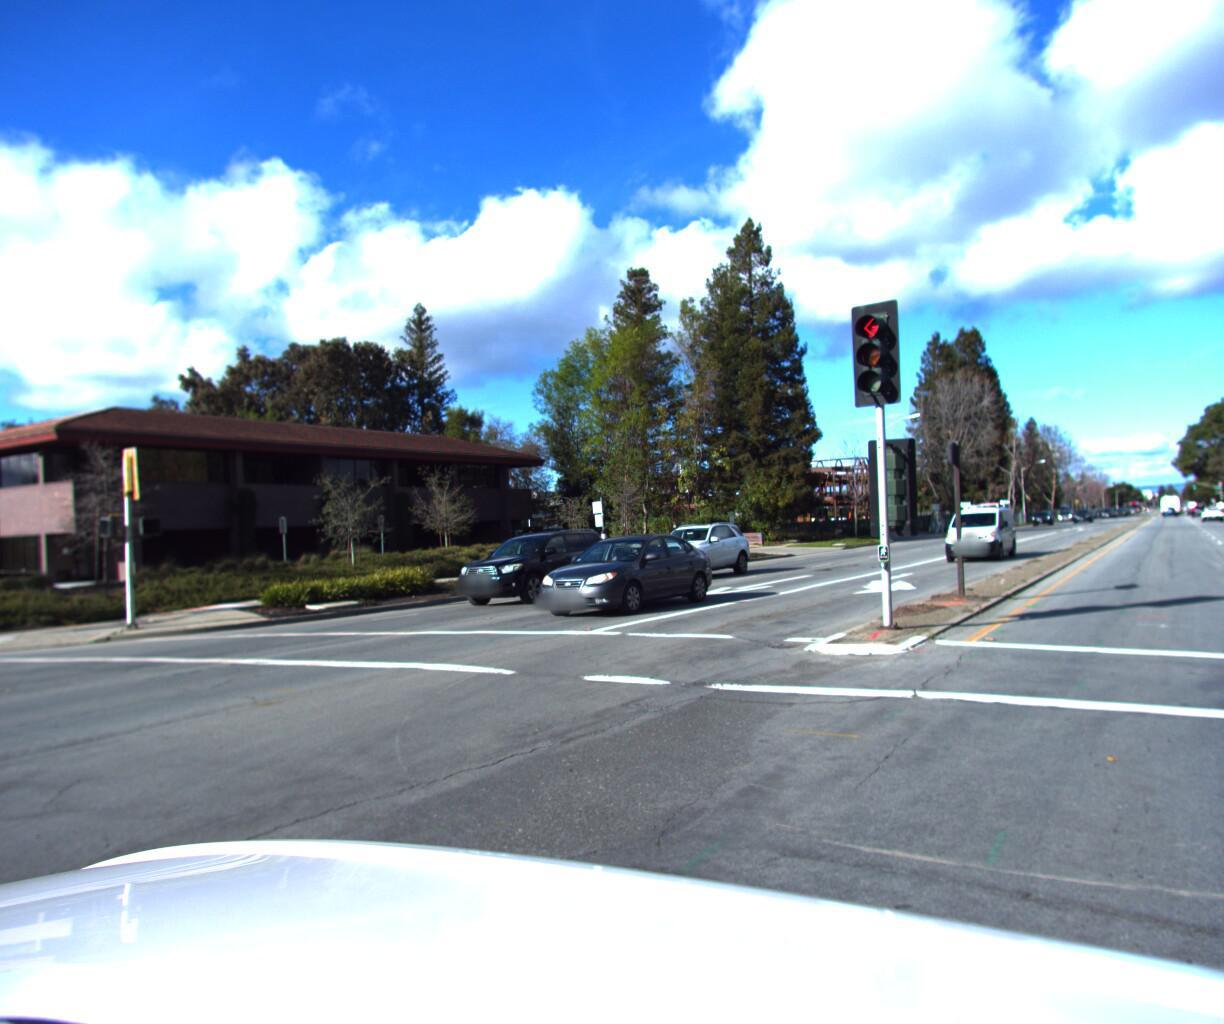car: (516, 523, 724, 626), (435, 522, 620, 606), (628, 515, 757, 583), (934, 493, 1020, 561)
